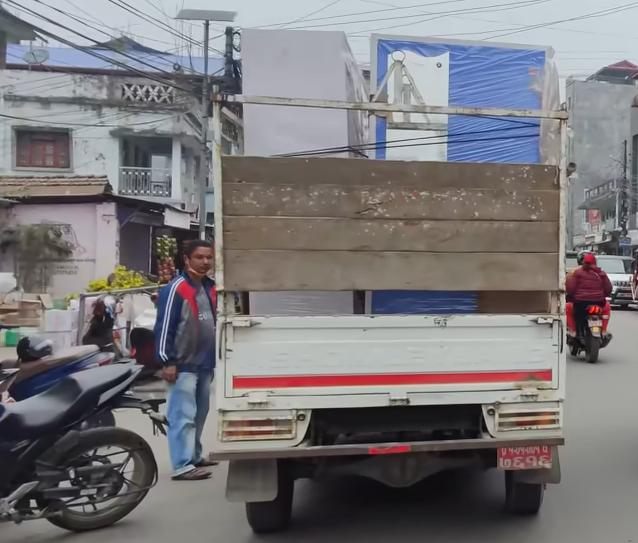bike: (0, 338, 163, 541), (572, 245, 620, 379)
scooter: (60, 275, 221, 400)
transport_vehicle: (204, 75, 588, 536)
